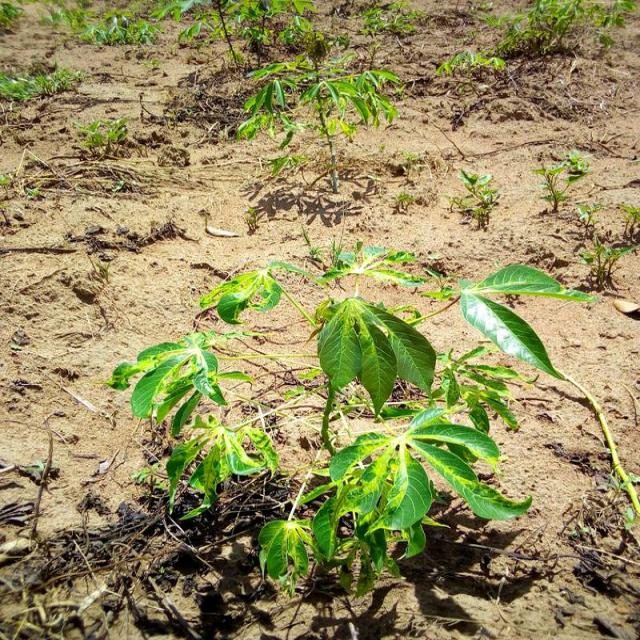cassava leaf: (312, 404, 533, 575), (317, 294, 437, 417), (461, 288, 567, 380)
